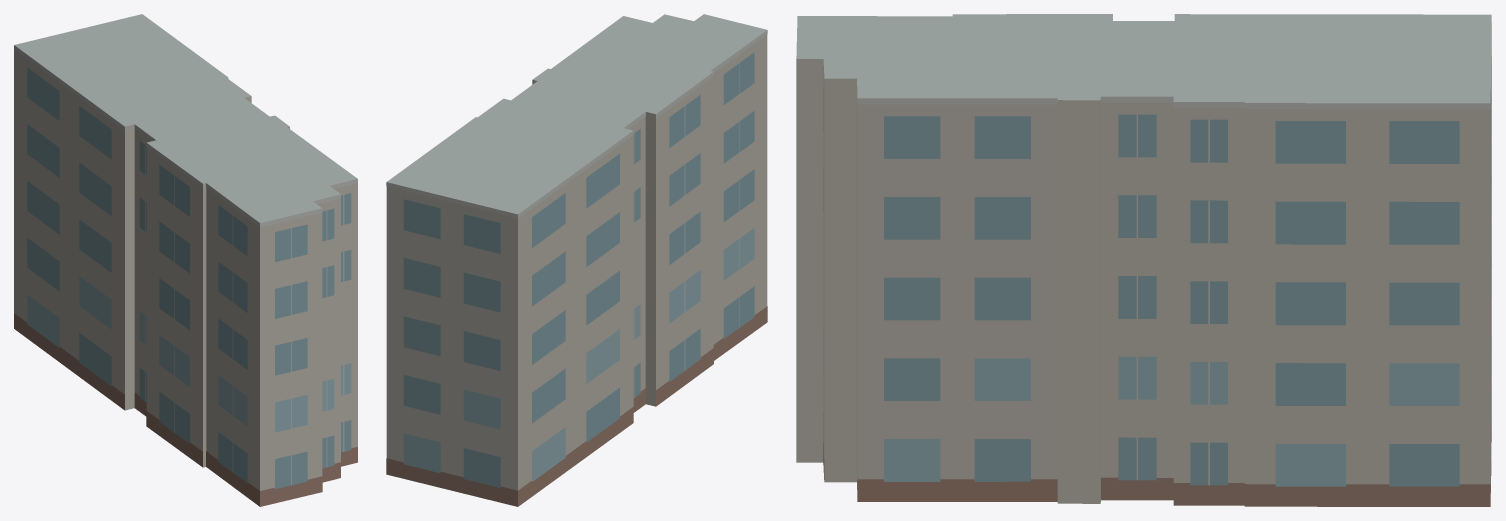
The model's file is survey-upis-32960140.glb.
3 views of the same model, side by side, from view 1: azimuth 30°, elevation 25°; view 2: azimuth 150°, elevation 25°; view 3: azimuth 270°, elevation 25° (orthographic). The views are drawn at different scales.
Parts seen in each view (by area): view 1: survey-upis-32960140.tmp; view 2: survey-upis-32960140.tmp; view 3: survey-upis-32960140.tmp.
Boxes of the visible parts, box(x1,y1,x2,y2) form: survey-upis-32960140.tmp: box(14, 14, 357, 506); survey-upis-32960140.tmp: box(386, 14, 767, 506); survey-upis-32960140.tmp: box(796, 14, 1491, 506).
Size of the model in its own units: 7.77 by 16.35 by 25.54.
